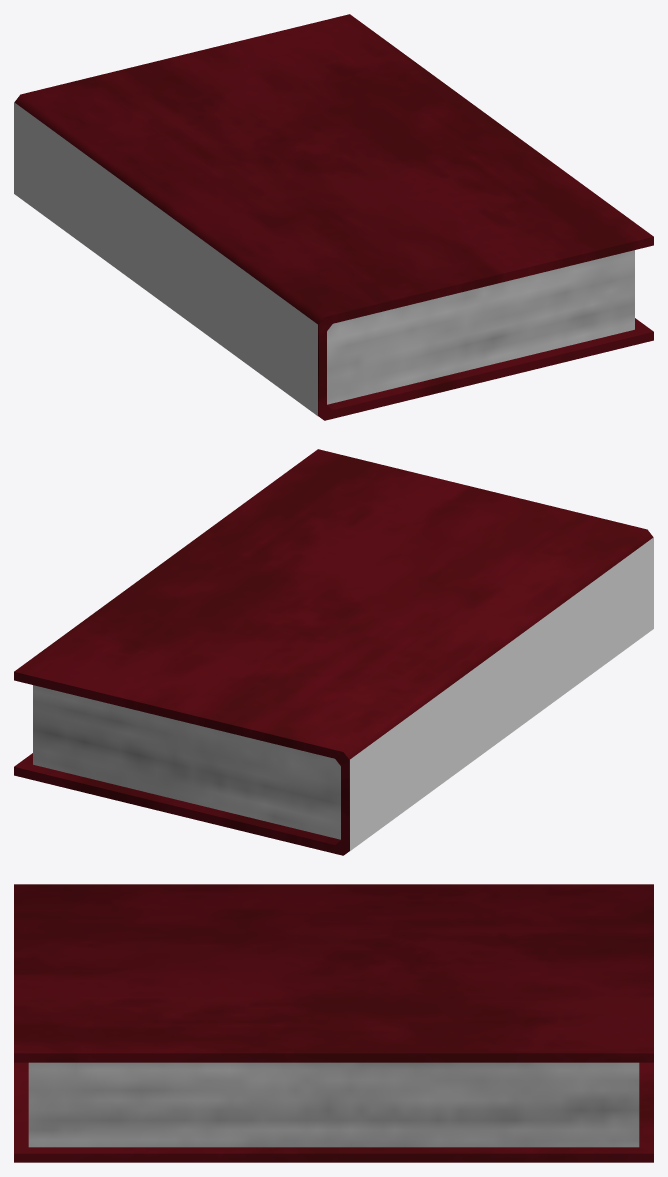
Rendered from Book_ver1.fbx.
3 views of the same model, one above another, from view 1: azimuth 30°, elevation 25°; view 2: azimuth 150°, elevation 25°; view 3: azimuth 270°, elevation 25° (orthographic). The views are drawn at different scales.
Visible parts, largest first — view 1: Book_ver1; view 2: Book_ver1; view 3: Book_ver1.
Part boxes in pixels (box(x1,y1,x2,y2)): Book_ver1: box(14, 14, 653, 420); Book_ver1: box(14, 449, 653, 855); Book_ver1: box(14, 884, 653, 1162).
Bounding box in the file's own units: 99.57 × 29.39 × 156.
